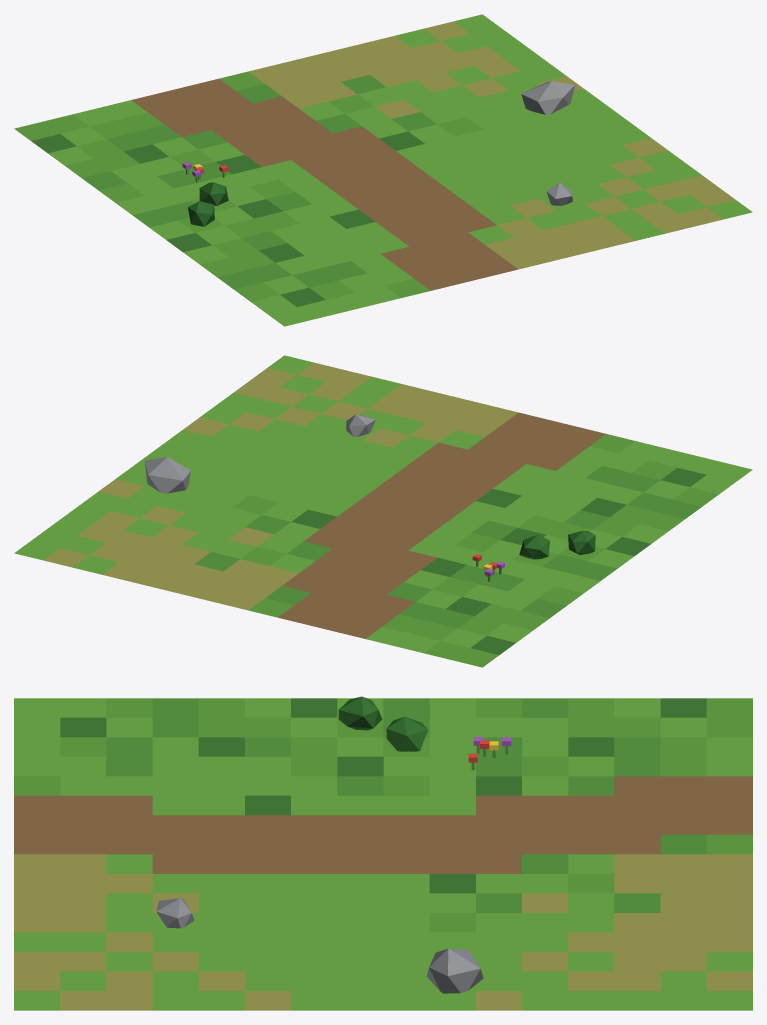
File: chunk_8_4.glb
3 renders of one model, top to bottom at view 1: azimuth 30°, elevation 25°; view 2: azimuth 150°, elevation 25°; view 3: azimuth 270°, elevation 25°, orthographic. The views are drawn at different scales.
Parts seen in each view (by area): view 1: chunk_8_4; view 2: chunk_8_4; view 3: chunk_8_4.
Boxes of the visible parts, left/top/right/bottom form: chunk_8_4: left=14, top=14, right=752, bottom=326; chunk_8_4: left=14, top=355, right=752, bottom=667; chunk_8_4: left=14, top=696, right=752, bottom=1010.
Size of the model in its own units: 16 by 1.31 by 16.
